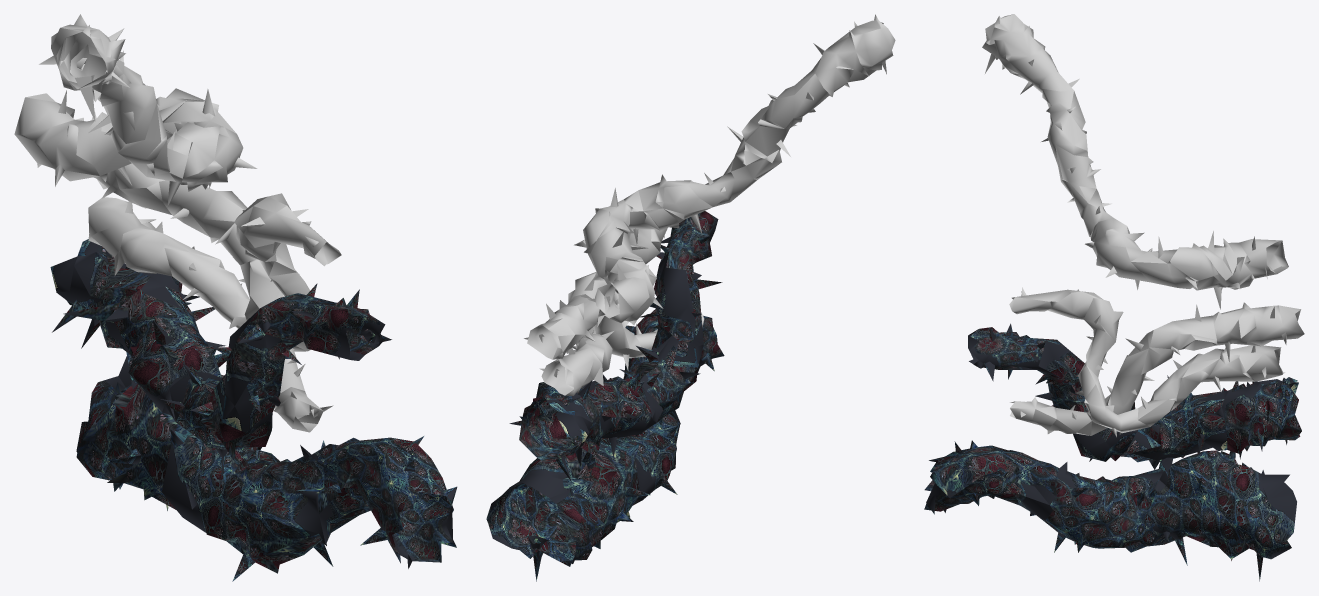
File: 02_16_makaizyu_01.fbx
The picture shows the model from 3 angles, left to right: view 1: azimuth 30°, elevation 25°; view 2: azimuth 150°, elevation 25°; view 3: azimuth 270°, elevation 25°; orthographic projection. The views are drawn at different scales.
Visible parts, largest first — view 1: LODGroup_3_MainMesh_1_SubMesh_1, LODGroup_3_MainMesh_1_SubMesh_2, LODGroup_3_MainMesh_1_SubMesh_3, LODGroup_3_MainMesh_1_SubMesh_4; view 2: LODGroup_3_MainMesh_1_SubMesh_1, LODGroup_3_MainMesh_1_SubMesh_2, LODGroup_3_MainMesh_1_SubMesh_3, LODGroup_3_MainMesh_1_SubMesh_4; view 3: LODGroup_3_MainMesh_1_SubMesh_1, LODGroup_3_MainMesh_1_SubMesh_3, LODGroup_3_MainMesh_1_SubMesh_2, LODGroup_3_MainMesh_1_SubMesh_4.
Part boxes in pixels (x1,y1,x2,y2): LODGroup_3_MainMesh_1_SubMesh_1: (14,14,341,432); LODGroup_3_MainMesh_1_SubMesh_2: (50,239,391,479); LODGroup_3_MainMesh_1_SubMesh_3: (105,352,456,581); LODGroup_3_MainMesh_1_SubMesh_4: (76,376,457,573); LODGroup_3_MainMesh_1_SubMesh_1: (524,14,895,395); LODGroup_3_MainMesh_1_SubMesh_2: (509,211,722,481); LODGroup_3_MainMesh_1_SubMesh_3: (486,325,714,581); LODGroup_3_MainMesh_1_SubMesh_4: (520,314,724,566); LODGroup_3_MainMesh_1_SubMesh_1: (982,14,1304,437); LODGroup_3_MainMesh_1_SubMesh_3: (924,441,1296,581); LODGroup_3_MainMesh_1_SubMesh_2: (968,323,1301,476); LODGroup_3_MainMesh_1_SubMesh_4: (924,440,1264,552).
Size of the model in its own units: 793 by 1415 by 1024.
